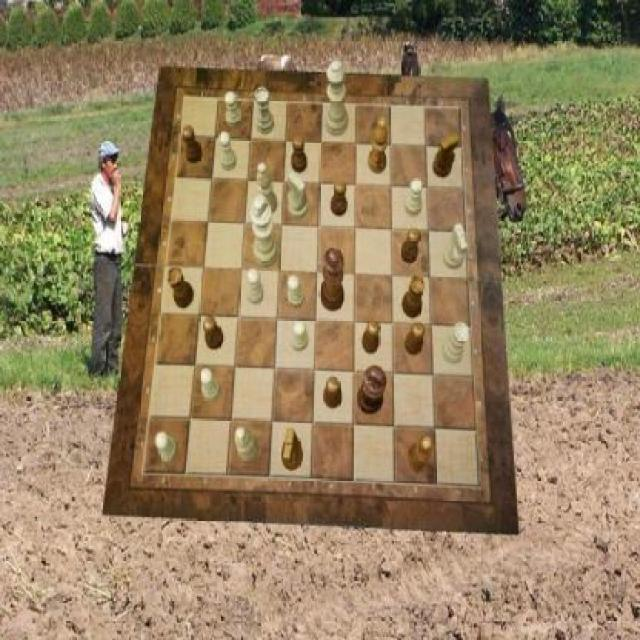bishop: (368, 119, 388, 174), (408, 435, 432, 473)
black-bishop: (357, 366, 387, 414)
black-king: (432, 132, 460, 178), (281, 428, 304, 470)
black-knight: (183, 126, 203, 165), (402, 229, 422, 264), (204, 317, 224, 351), (406, 322, 426, 356), (330, 179, 348, 216), (323, 377, 342, 409), (291, 135, 307, 173), (362, 319, 379, 353)
black-pawn: (320, 248, 345, 312)
black-queen: (168, 266, 195, 309), (403, 276, 426, 320)
black-rook: (257, 163, 278, 215), (235, 428, 260, 462)
white-bishop: (251, 194, 278, 268)
white-king: (443, 223, 468, 269), (288, 172, 308, 220)
white-knight: (218, 132, 238, 171), (156, 432, 178, 465), (200, 368, 221, 402), (405, 179, 422, 216), (225, 91, 242, 128), (248, 270, 264, 306), (291, 320, 308, 352), (288, 276, 304, 310)
white-pawn: (326, 60, 349, 136)
white-queen: (442, 321, 468, 364), (256, 88, 276, 134)
